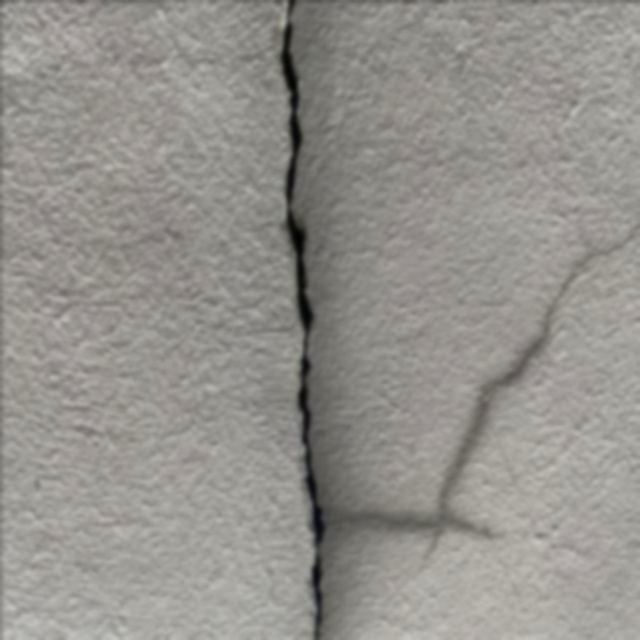SurfaceCrack: (229, 0, 381, 638)
